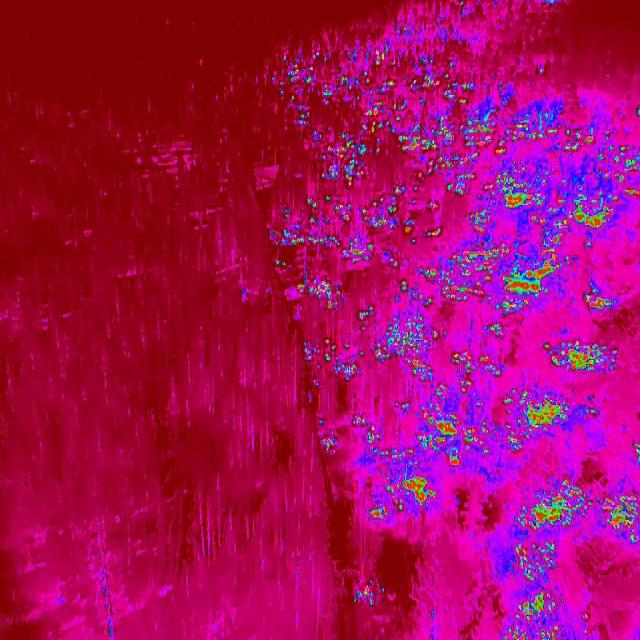fire: (284, 34, 490, 190), (396, 382, 568, 469), (270, 190, 444, 265), (489, 162, 615, 248), (443, 246, 581, 322), (352, 414, 438, 524), (360, 318, 455, 382), (506, 541, 564, 640), (494, 114, 598, 161), (515, 476, 588, 534), (300, 338, 366, 388), (540, 338, 620, 374), (448, 344, 512, 380), (298, 274, 352, 316), (599, 140, 640, 195), (602, 494, 640, 550), (398, 266, 440, 316), (581, 287, 619, 315), (352, 576, 377, 612), (463, 208, 491, 238), (482, 320, 512, 344), (317, 433, 338, 452)
